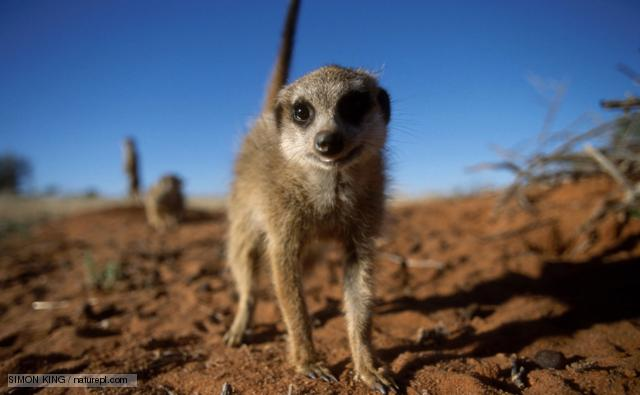meerkat: (210, 55, 437, 390)
